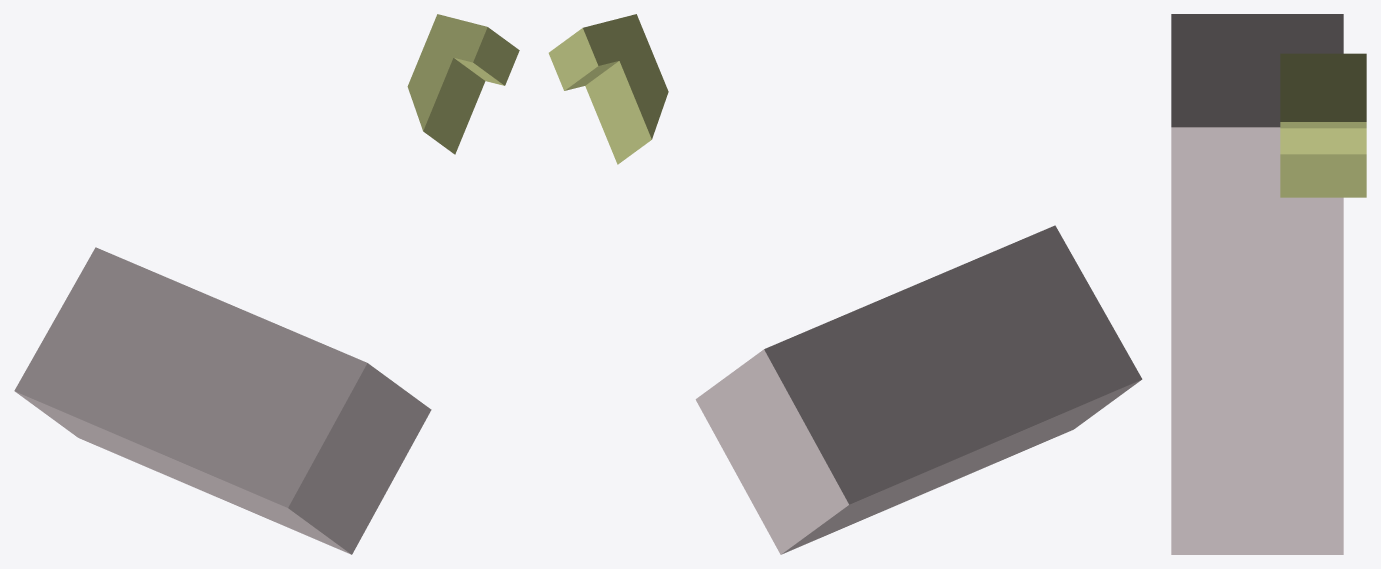
The picture shows the model from 3 angles, left to right: view 1: azimuth 30°, elevation 25°; view 2: azimuth 150°, elevation 25°; view 3: azimuth 270°, elevation 25°; orthographic projection. The views are drawn at different scales.
Visible parts, largest first — view 1: 0_1_0_0_0_1_0_1; view 2: 0_1_0_0_0_1_0_1; view 3: 0_1_0_0_0_1_0_1.
Boxes of the visible parts, <box> form: 0_1_0_0_0_1_0_1: <box>14,14,519,554</box>; 0_1_0_0_0_1_0_1: <box>548,14,1142,554</box>; 0_1_0_0_0_1_0_1: <box>1171,14,1366,554</box>.
Bounding box in the file's own units: 52.17 × 46.47 × 13.6.
